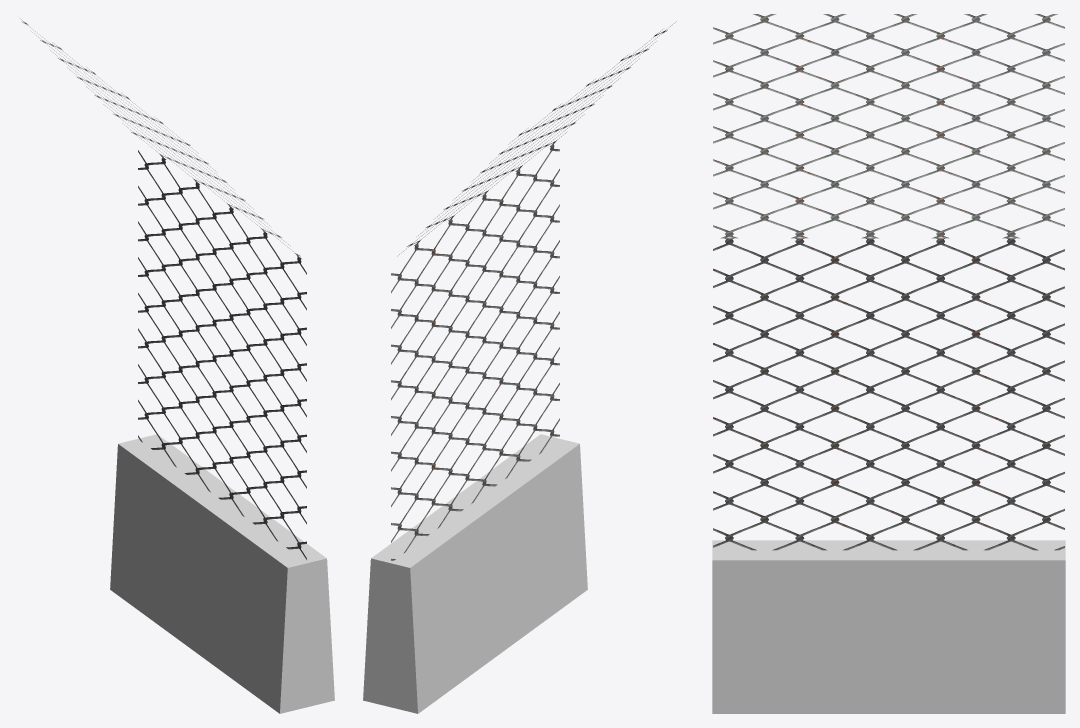
Rendered from Barrier.fbx.
3 views of the same model, side by side, from view 1: azimuth 30°, elevation 25°; view 2: azimuth 150°, elevation 25°; view 3: azimuth 270°, elevation 25° (orthographic). The views are drawn at different scales.
Parts seen in each view (by area): view 1: Cube.013; view 2: Cube.013; view 3: Cube.013.
Boxes of the visible parts, x1=… form: Cube.013: x1=21, y1=19, x2=334, y2=713; Cube.013: x1=363, y1=21, x2=676, y2=713; Cube.013: x1=712, y1=14, x2=1065, y2=713.
Bounding box in the file's own units: 103 × 390 × 200.
2 materials, 1 textured.
